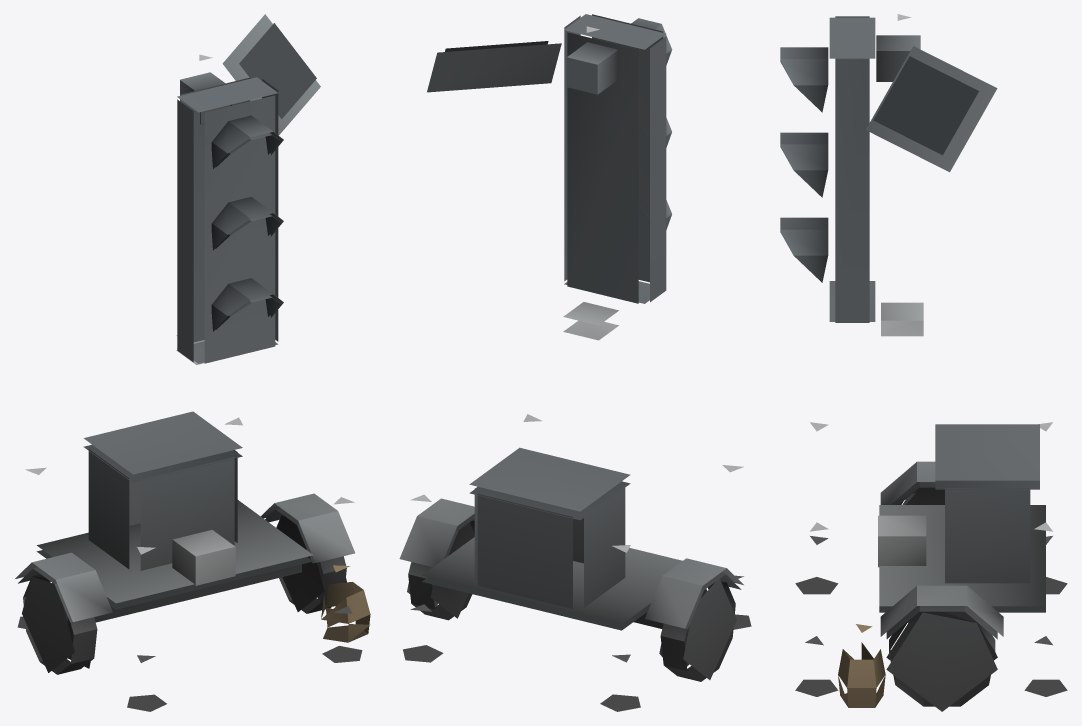
Rendered from lights.lod.glb.
3 renders of one model, left to right at view 1: azimuth 30°, elevation 25°; view 2: azimuth 150°, elevation 25°; view 3: azimuth 270°, elevation 25°, orthographic. The views are drawn at different scales.
Visible parts, largest first — view 1: lights; view 2: lights; view 3: lights.
Part boxes in pixels (x1,y1,x2,y2): lights: (15, 14, 370, 711); lights: (399, 14, 751, 711); lights: (780, 14, 1067, 711).
Bounding box in the file's own units: 1.2 × 2.42 × 1.01.
